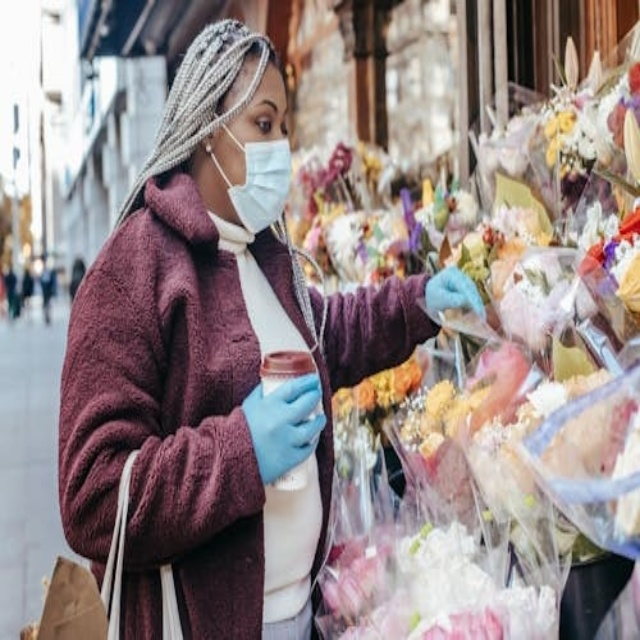Guantes: (241, 371, 327, 486), (425, 265, 485, 322)
Mascara: (212, 129, 292, 236)
Sin_gafas: (254, 116, 274, 135), (280, 120, 289, 137)
